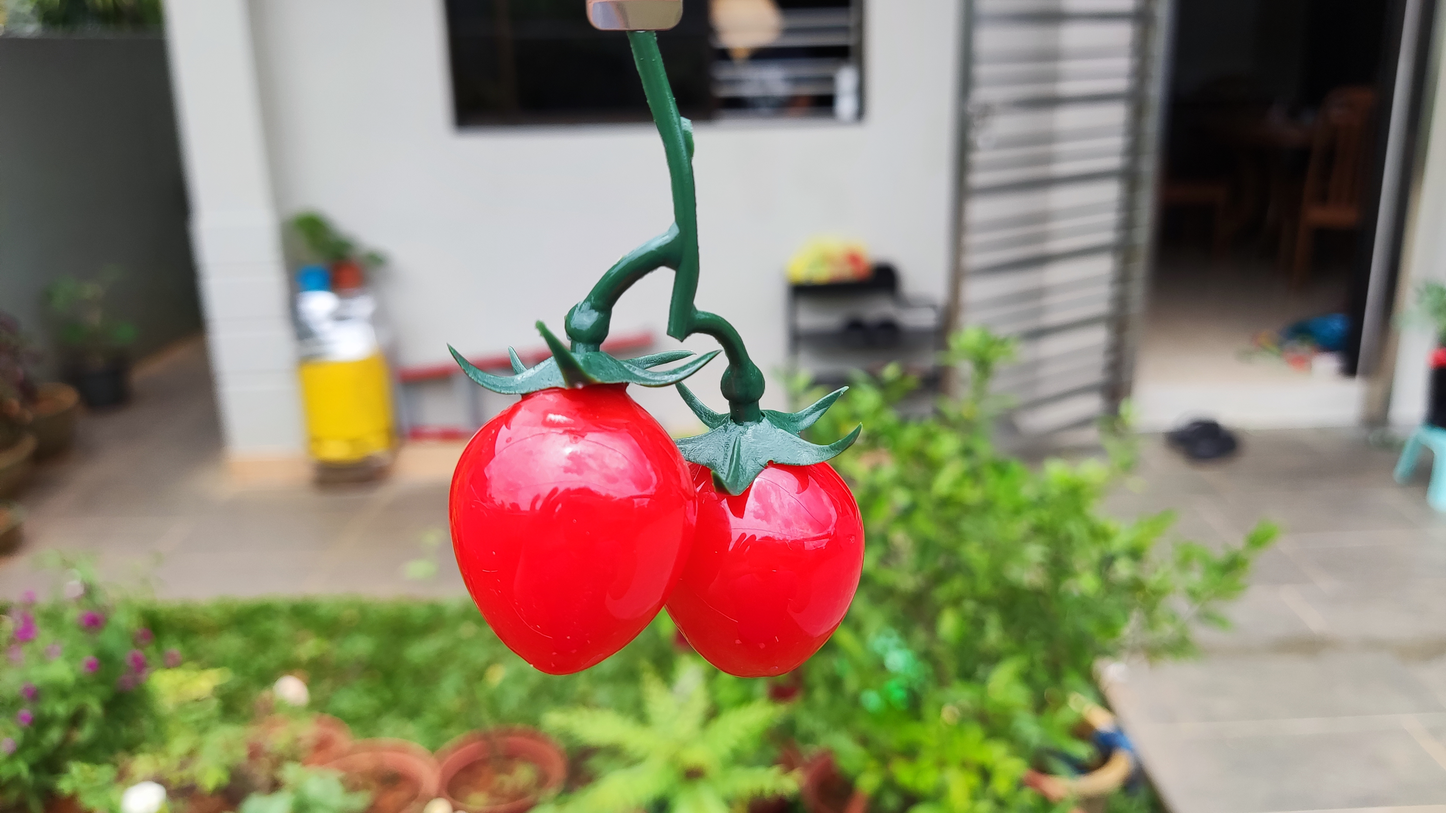peduncle: (629, 28, 696, 218)
strawberry: (448, 383, 696, 674), (666, 461, 864, 677)
